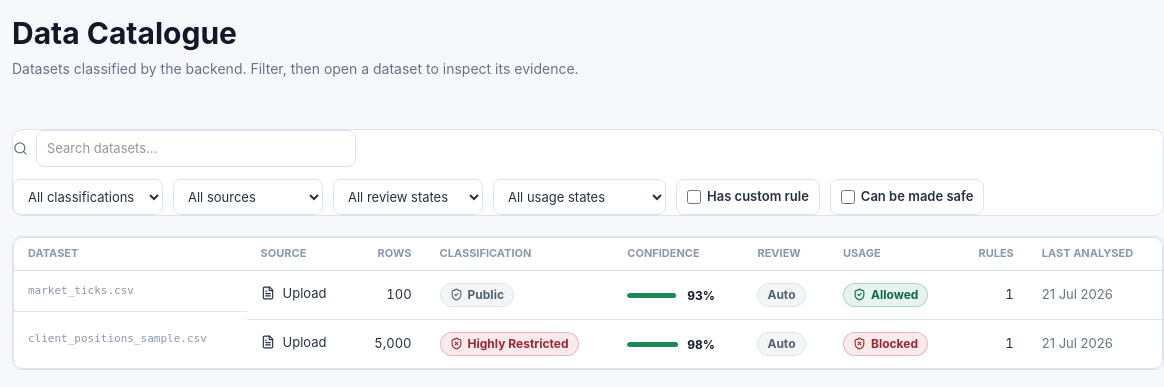
CataloguePage filters › filters by search text
This screenshot has width=1164, height=387.
Type "market" into the search field labelled "Search datasets" at (196,148), box top-left (36, 130), bottom-right (356, 167)
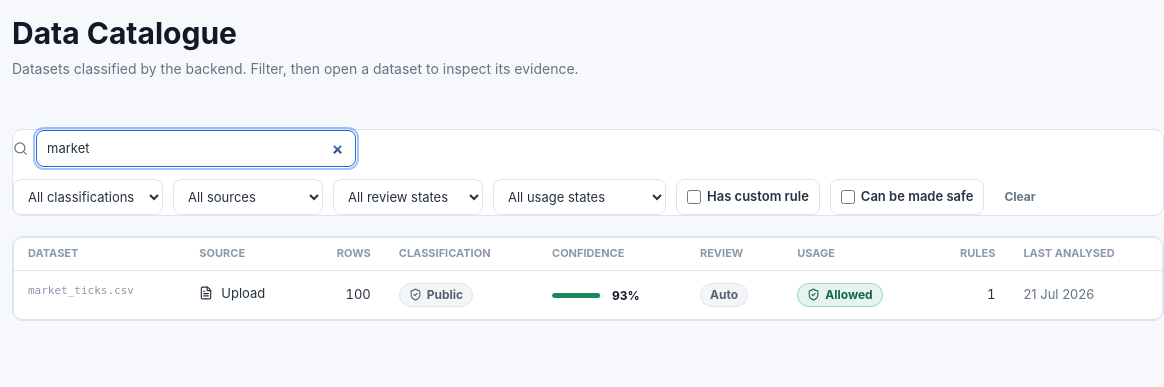
Expected: the text "market_ticks.csv" is shown, top-left (28, 283), bottom-right (134, 298)
Now the link "client_positions_sample.csv" is gone
